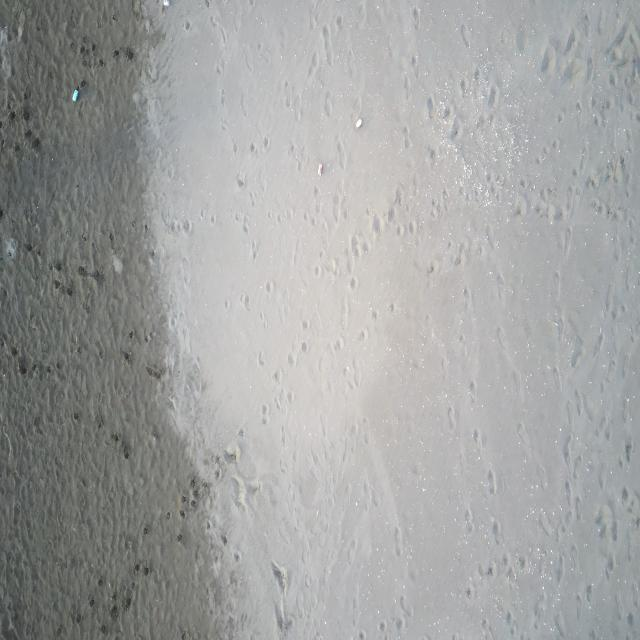tin-and-aluminum-cans: (162, 0, 173, 11), (72, 88, 79, 104), (317, 161, 323, 177), (355, 118, 363, 128)
